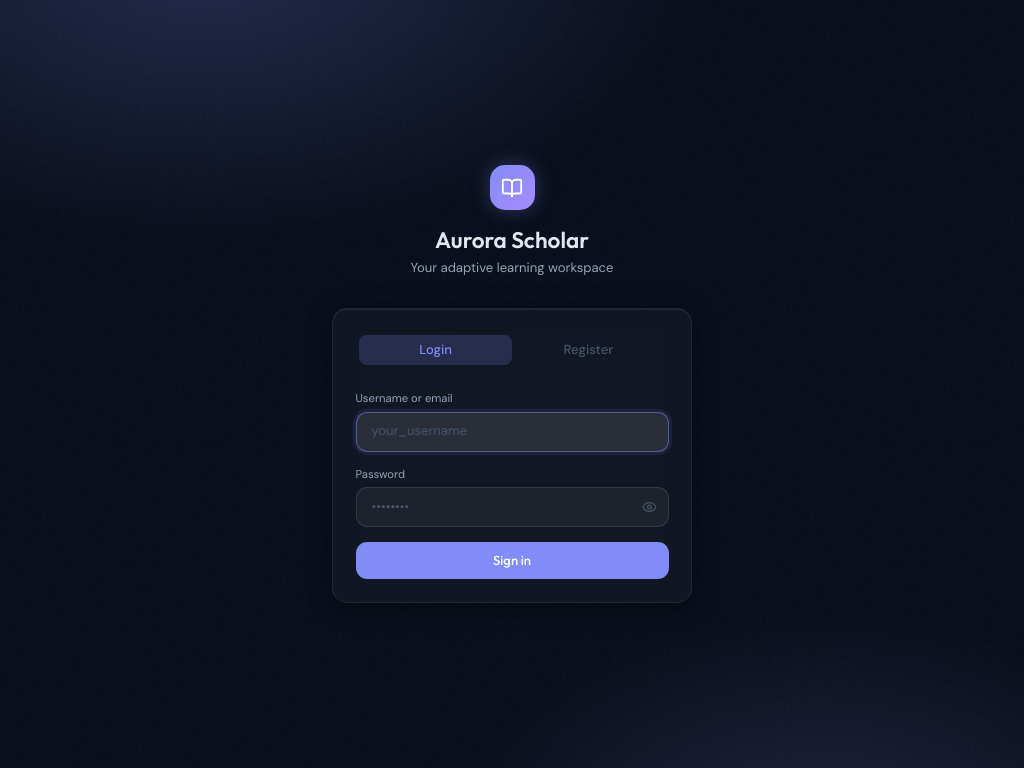
Test: AuthPage › shows an error message on failed login instead of navigating
The image size is (1024, 768).
Type "alice" into the field with placeholder "your_username" at (512, 432), box x1=356 y1=412 x2=668 y2=452
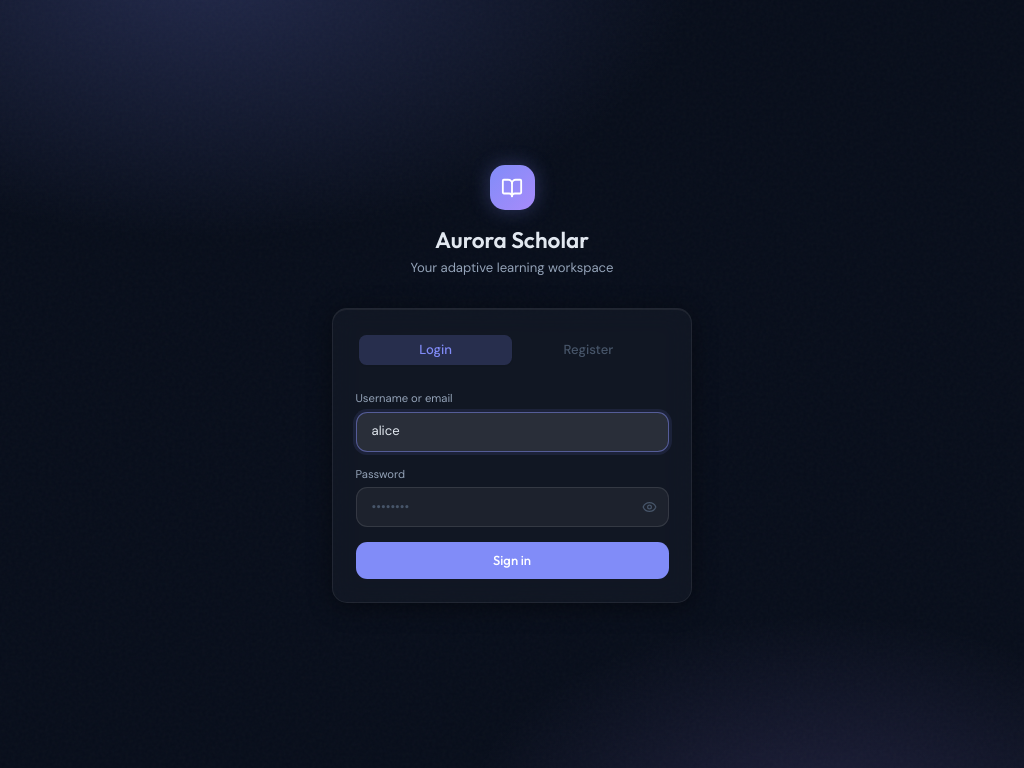
Type "wrongpass" into the password field with placeholder "••••••••" at (512, 507), box x1=356 y1=487 x2=668 y2=527
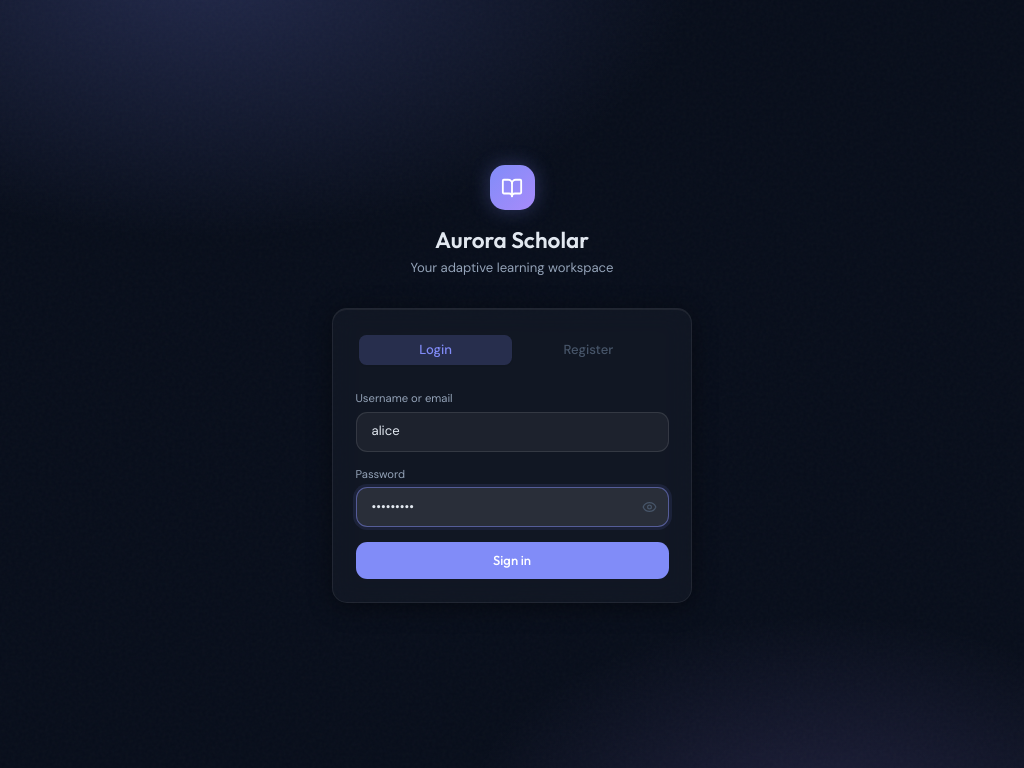
Click the button "Sign in" at (512, 560), box x1=356 y1=542 x2=668 y2=579
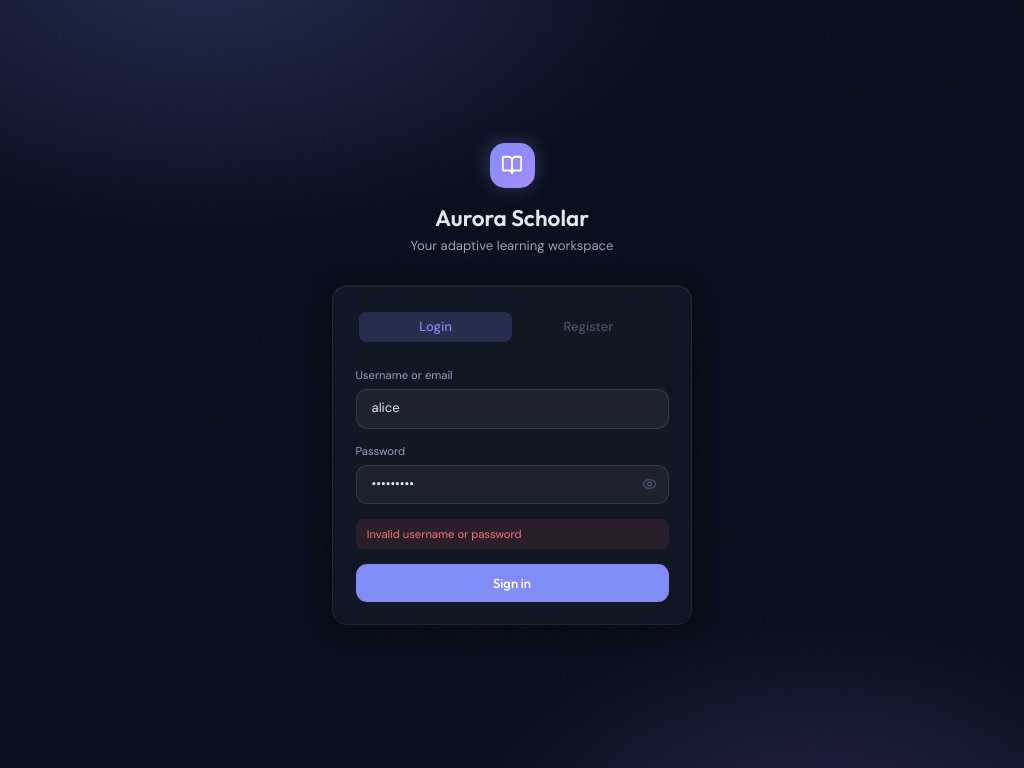
Now the text "Invalid username or password" is shown, box x1=356 y1=519 x2=668 y2=549
